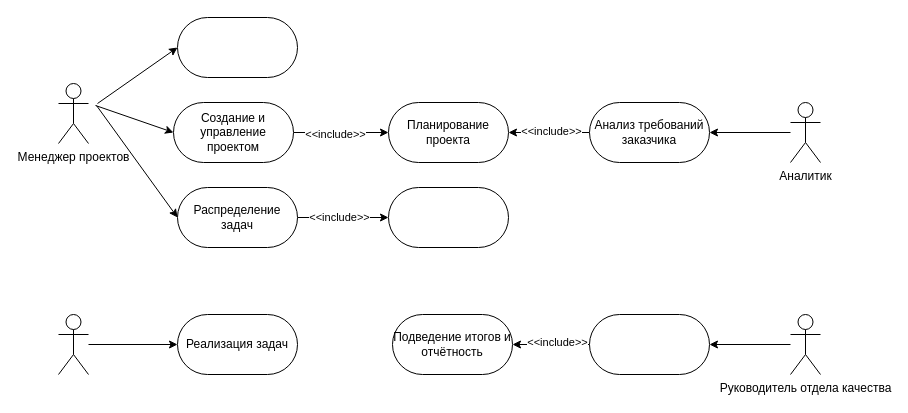
Some shapes in this 908 by 413 pixel diagram are drawn without their labels. The centre of each missing label's shape, as x and y in pixels:
"Контроль качества задачи" goes at (649,344).
"Мониторинг статуса проекта" goes at (237,47).
"Разработчик" goes at (73,344).
"Управление задачами" goes at (448,217).
